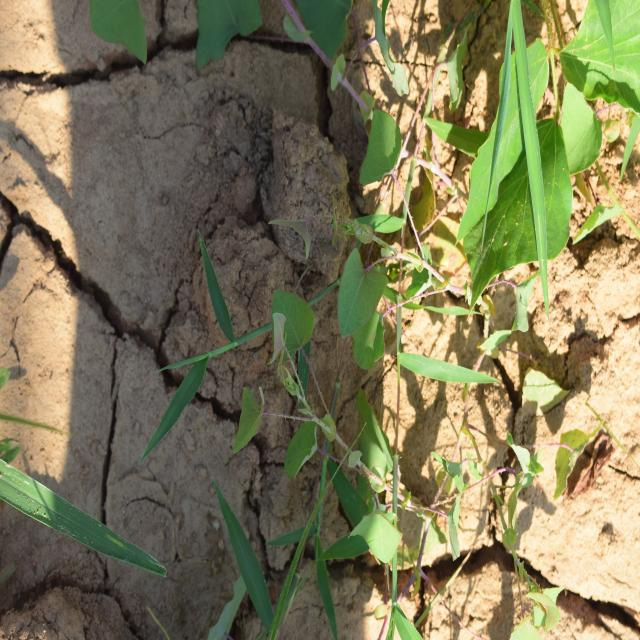Asiatic_Smartweed: (244, 257, 380, 488)
